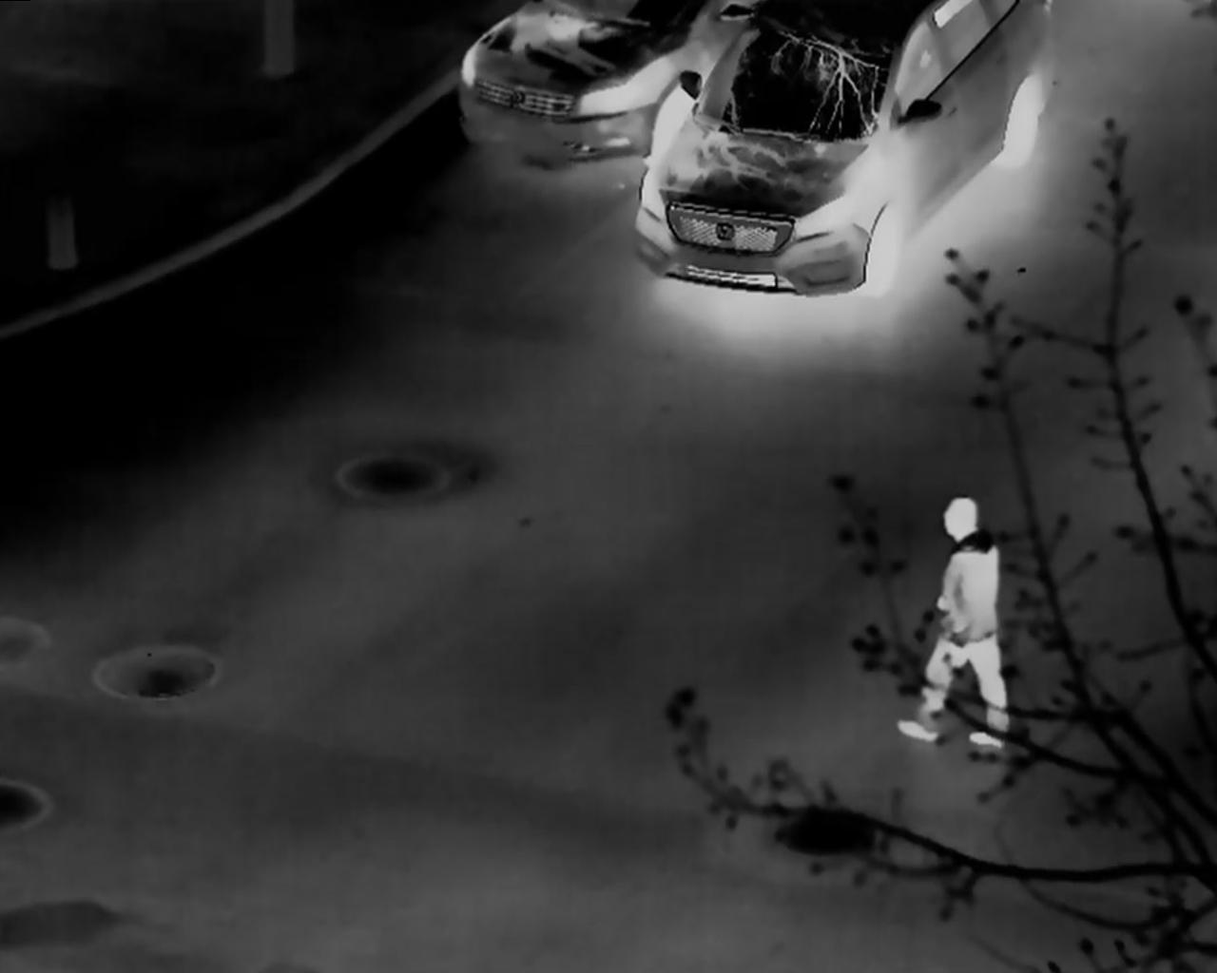person: (897, 496, 1011, 751)
